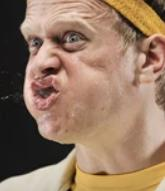Spitting: (0, 3, 165, 189)
